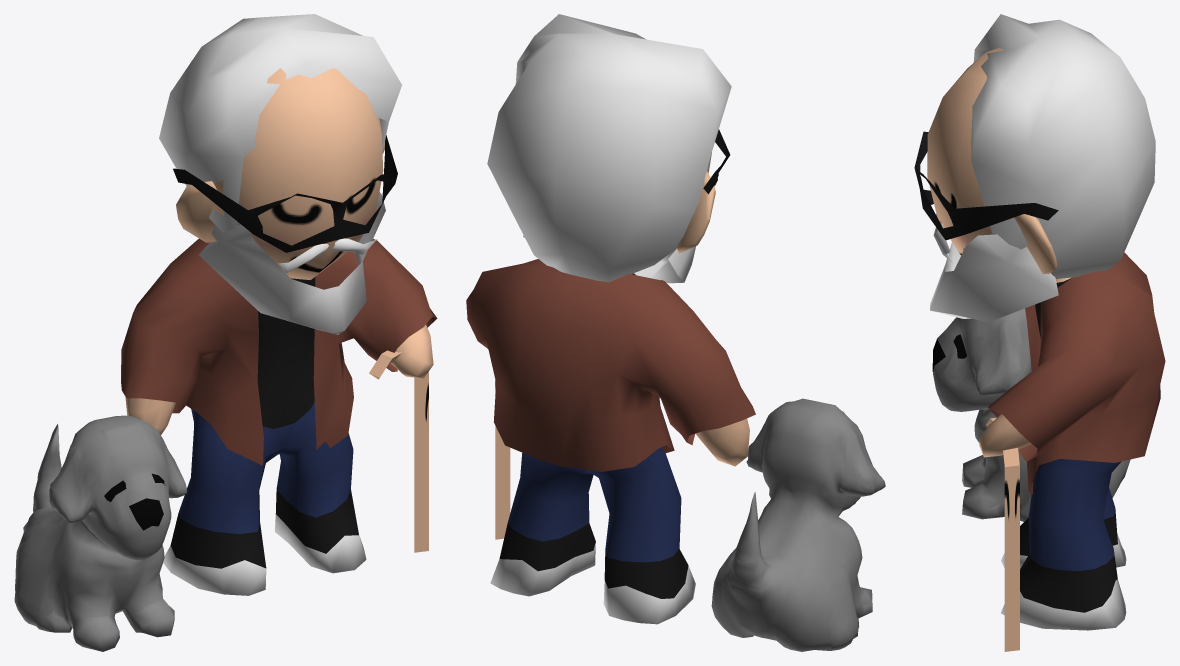
The model's file is Abuelo_con_Mascota.fbx.
3 views of the same model, side by side, from view 1: azimuth 30°, elevation 25°; view 2: azimuth 150°, elevation 25°; view 3: azimuth 270°, elevation 25° (orthographic).
Visible parts, largest first — view 1: cat.002; view 2: cat.002; view 3: cat.002.
Boxes of the visible parts, x1,y1,x2,y2 form: cat.002: (14,14,437,651); cat.002: (466,14,885,651); cat.002: (914,14,1165,651).
Size of the model in its own units: 148 by 194 by 80.11.
